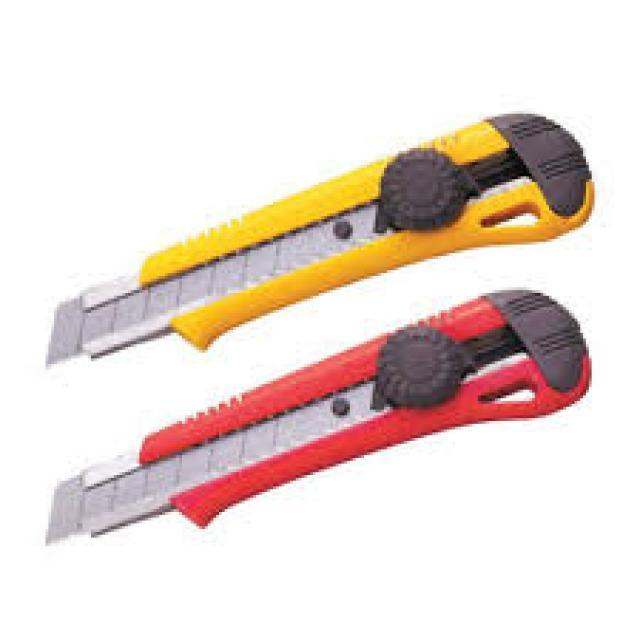cutter: (35, 104, 606, 382), (36, 286, 594, 564)
